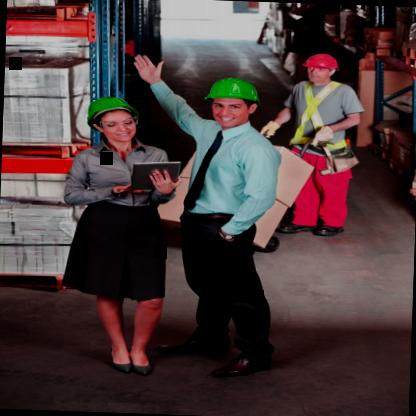helmet: (82, 88, 146, 154), (202, 70, 263, 128), (295, 47, 346, 92)
